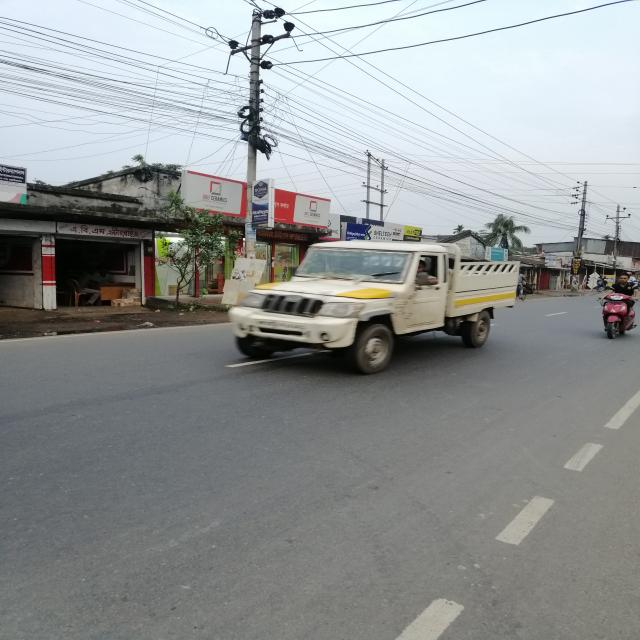Motorbike: (595, 274, 640, 343)
Zeep: (220, 235, 508, 378)
